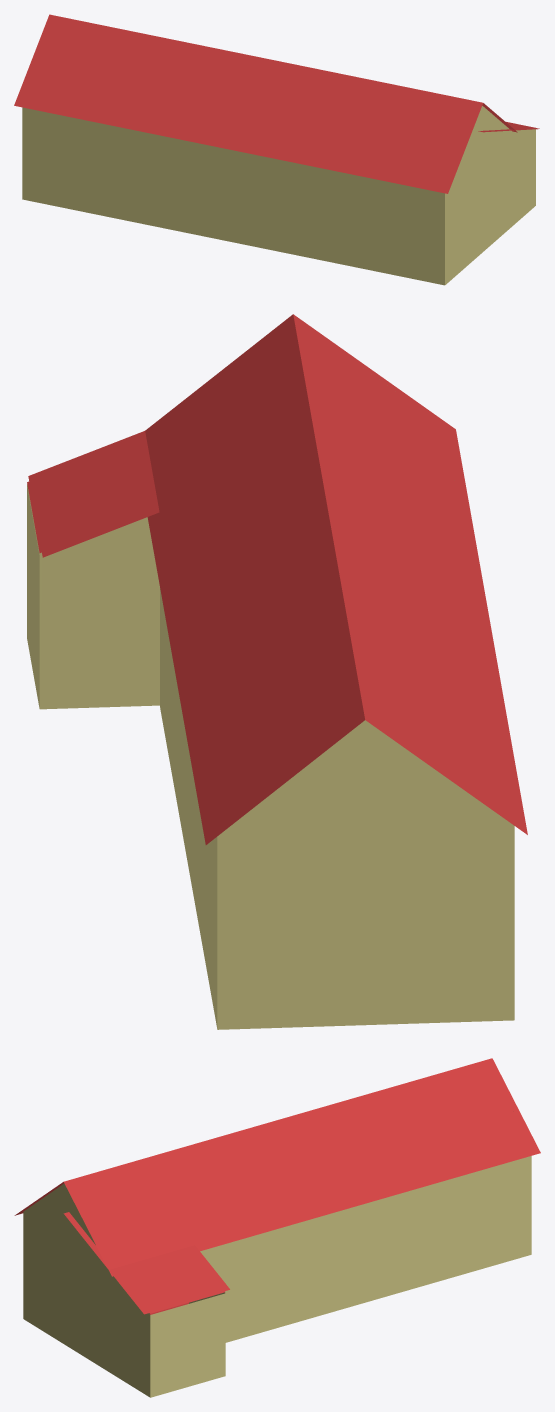
3 renders of one model, top to bottom at view 1: azimuth 30°, elevation 25°; view 2: azimuth 150°, elevation 25°; view 3: azimuth 270°, elevation 25°, orthographic. The views are drawn at different scales.
Size of the model in its own units: 35.85 by 39.08 by 13.69.
